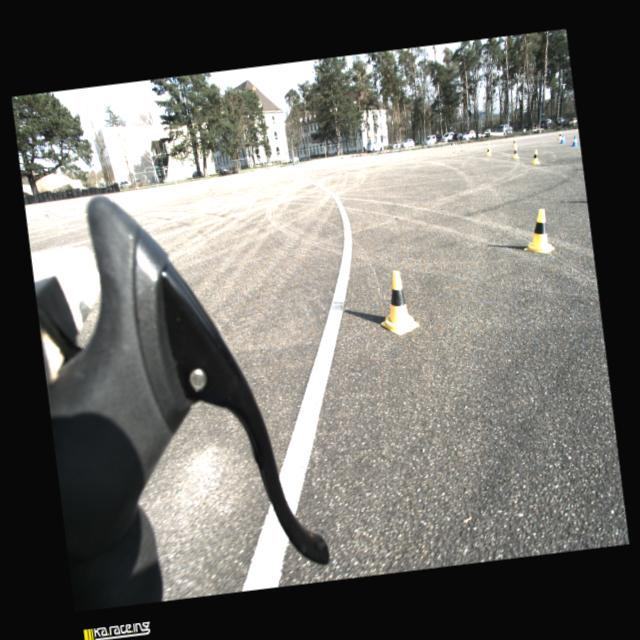blue_cone: (570, 134, 578, 146), (558, 134, 565, 144)
yellow_cone: (374, 268, 420, 338), (519, 207, 555, 256), (530, 148, 540, 164), (510, 146, 520, 159), (485, 145, 491, 156), (556, 131, 562, 139), (512, 138, 518, 146)
